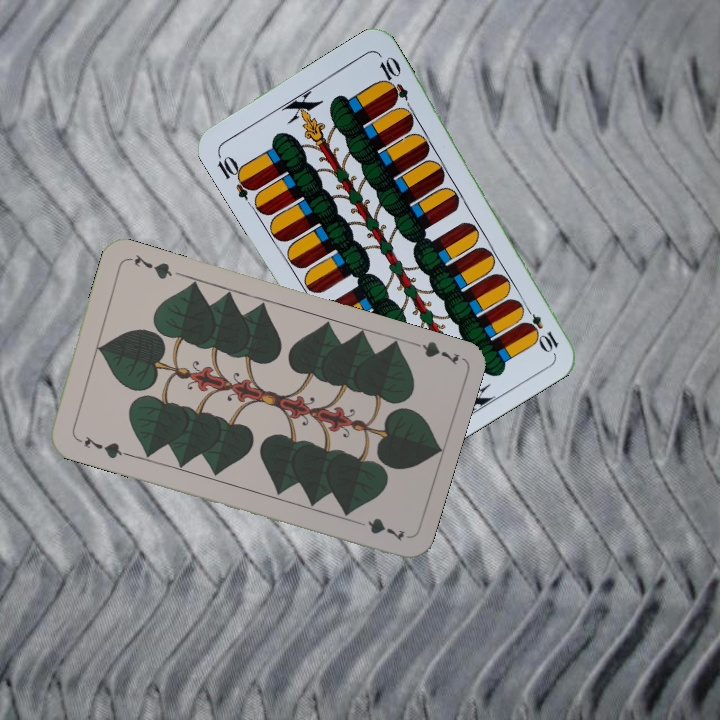E10: (213, 149, 259, 202), (518, 300, 561, 355)
G7: (404, 336, 462, 368), (80, 432, 129, 462)
